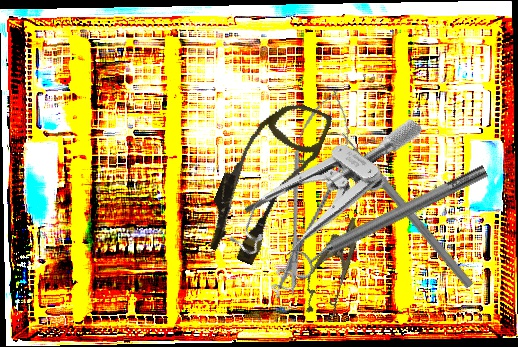Cannula: (196, 87, 334, 273)
Fixation Ring: (284, 155, 495, 283)
Micro Scissor: (259, 82, 362, 303)
Pusher: (337, 129, 476, 290), (243, 134, 380, 216)
Speculum: (217, 73, 424, 311), (295, 210, 374, 323)
